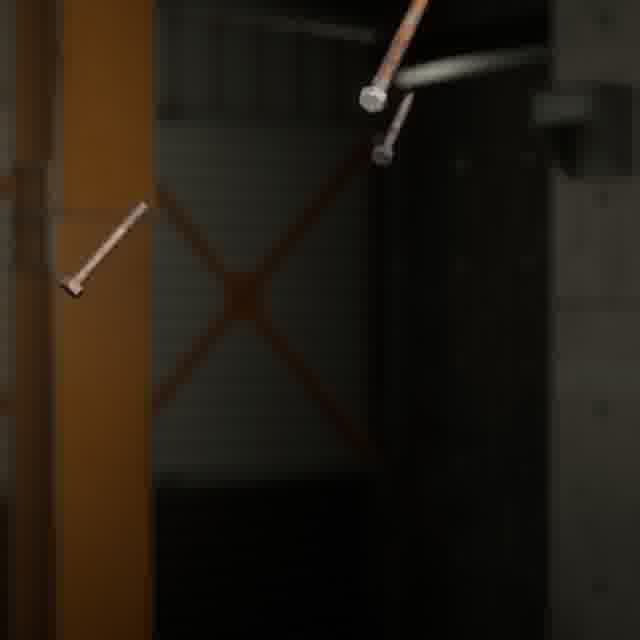bolt: (54, 196, 153, 303), (354, 0, 432, 117), (367, 88, 417, 169)
